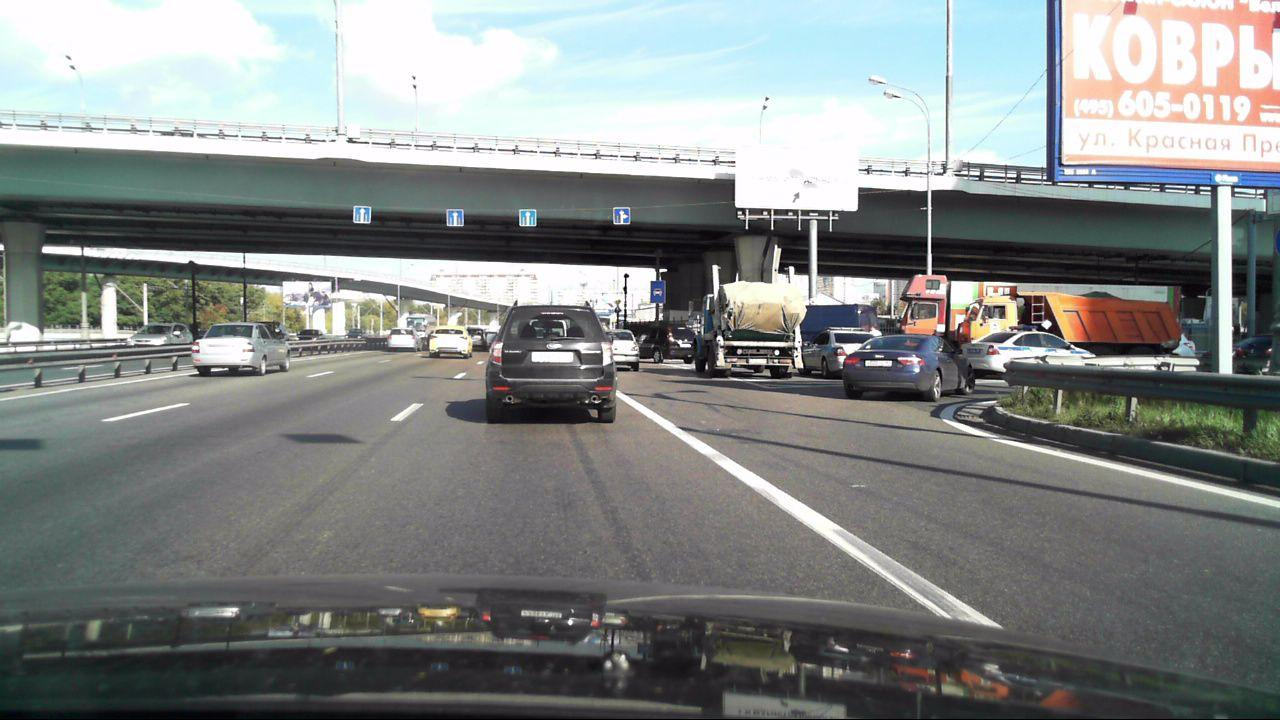5_15_2: (445, 208, 466, 227), (613, 206, 633, 225), (353, 205, 371, 224), (520, 208, 537, 227)
5_3: (649, 279, 665, 305)
